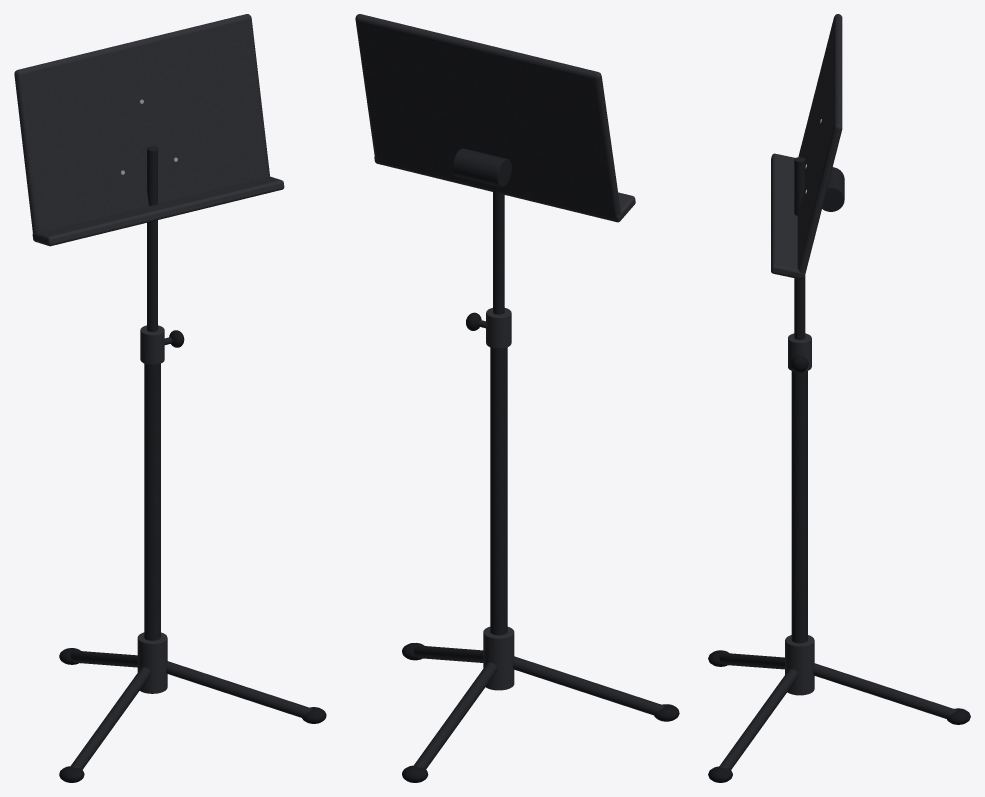
Rendered from 04_music_stand.glb.
3 views of the same model, side by side, from view 1: azimuth 30°, elevation 25°; view 2: azimuth 150°, elevation 25°; view 3: azimuth 270°, elevation 25° (orthographic). The views are drawn at different scales.
Visible parts, largest first — view 1: 04_music_stand__tray, 04_music_stand__lower_tube, 04_music_stand__tray_lip, 04_music_stand__leg.002, 04_music_stand__upper_tube, 04_music_stand__leg.001, 04_music_stand__tripod_hub, 04_music_stand__height_collar, 04_music_stand__leg; view 2: 04_music_stand__tray, 04_music_stand__lower_tube, 04_music_stand__leg.001, 04_music_stand__tilt_hinge, 04_music_stand__leg, 04_music_stand__tripod_hub, 04_music_stand__upper_tube, 04_music_stand__height_collar, 04_music_stand__leg.002, 04_music_stand__tray_lip; view 3: 04_music_stand__tray, 04_music_stand__lower_tube, 04_music_stand__tray_lip, 04_music_stand__leg, 04_music_stand__leg.002, 04_music_stand__tripod_hub, 04_music_stand__upper_tube, 04_music_stand__leg.001, 04_music_stand__tilt_hinge, 04_music_stand__height_collar.
Boxes of the visible parts, x1=… form: 04_music_stand__tray: x1=14, y1=14, x2=269, y2=234; 04_music_stand__lower_tube: x1=144, y1=363, x2=160, y2=640; 04_music_stand__tray_lip: x1=32, y1=176, x2=284, y2=246; 04_music_stand__leg.002: x1=166, y1=661, x2=311, y2=717; 04_music_stand__upper_tube: x1=147, y1=146, x2=157, y2=331; 04_music_stand__leg.001: x1=70, y1=667, x2=150, y2=769; 04_music_stand__tripod_hub: x1=137, y1=632, x2=167, y2=693; 04_music_stand__height_collar: x1=140, y1=325, x2=164, y2=364; 04_music_stand__leg: x1=70, y1=650, x2=137, y2=667; 04_music_stand__tray: x1=355, y1=14, x2=620, y2=220; 04_music_stand__lower_tube: x1=490, y1=347, x2=507, y2=635; 04_music_stand__leg.001: x1=513, y1=656, x2=664, y2=715; 04_music_stand__tilt_hinge: x1=453, y1=148, x2=511, y2=186; 04_music_stand__leg: x1=413, y1=662, x2=497, y2=769; 04_music_stand__tripod_hub: x1=483, y1=626, x2=514, y2=690; 04_music_stand__upper_tube: x1=493, y1=190, x2=504, y2=314; 04_music_stand__height_collar: x1=486, y1=308, x2=511, y2=348; 04_music_stand__leg.002: x1=413, y1=645, x2=483, y2=662; 04_music_stand__tray_lip: x1=374, y1=156, x2=635, y2=222; 04_music_stand__tray: x1=797, y1=14, x2=842, y2=273; 04_music_stand__lower_tube: x1=791, y1=371, x2=807, y2=643; 04_music_stand__tray_lip: x1=771, y1=153, x2=805, y2=279; 04_music_stand__leg: x1=813, y1=663, x2=956, y2=718; 04_music_stand__leg.002: x1=719, y1=669, x2=798, y2=769; 04_music_stand__tripod_hub: x1=785, y1=635, x2=814, y2=695; 04_music_stand__upper_tube: x1=794, y1=157, x2=805, y2=339; 04_music_stand__leg.001: x1=719, y1=653, x2=784, y2=669; 04_music_stand__tilt_hinge: x1=822, y1=167, x2=844, y2=211; 04_music_stand__height_collar: x1=788, y1=333, x2=811, y2=371.
Size of the model in its own units: 0.5483 by 1.32 by 0.481.
Materials: 4 (4 with a texture image).
